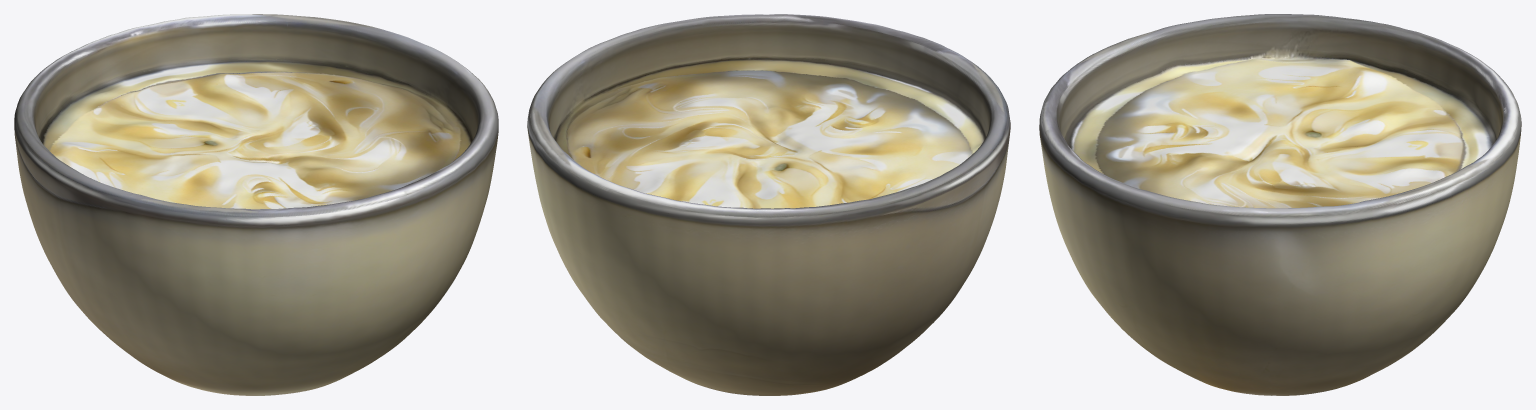
The model's file is cake3.fbx.
The picture shows the model from 3 angles, left to right: view 1: azimuth 30°, elevation 25°; view 2: azimuth 150°, elevation 25°; view 3: azimuth 270°, elevation 25°; orthographic projection.
Parts seen in each view (by area): view 1: Mesh_0; view 2: Mesh_0; view 3: Mesh_0.
Part boxes in pixels (x1,y1,x2,y2): Mesh_0: [14, 14, 498, 395]; Mesh_0: [527, 14, 1010, 395]; Mesh_0: [1039, 14, 1521, 395].
Size of the model in its own units: 200 by 110 by 200.
Materials: 1 (1 with a texture image).
